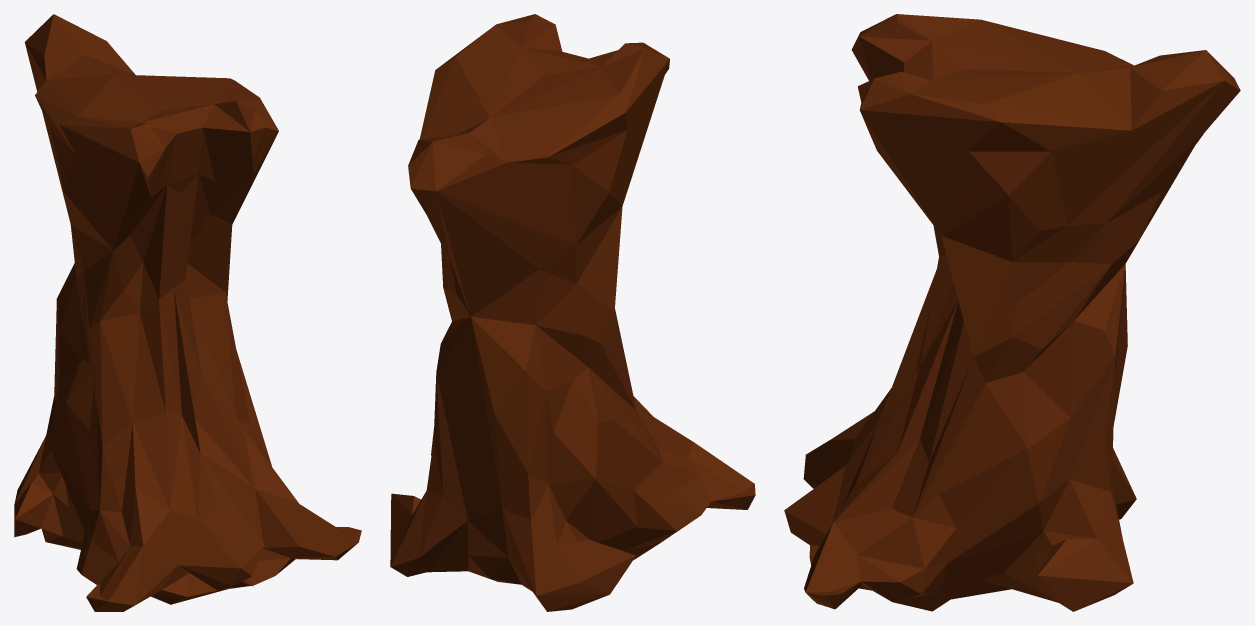
File: Tree_Stump.fbx
The picture shows the model from 3 angles, left to right: view 1: azimuth 30°, elevation 25°; view 2: azimuth 150°, elevation 25°; view 3: azimuth 270°, elevation 25°; orthographic projection. The views are drawn at different scales.
Parts seen in each view (by area): view 1: Quad Sphere; view 2: Quad Sphere; view 3: Quad Sphere.
Part boxes in pixels (x1=…): Quad Sphere: x1=14, y1=14, x2=361, y2=611; Quad Sphere: x1=390, y1=14, x2=755, y2=611; Quad Sphere: x1=784, y1=14, x2=1240, y2=611.
Bounding box in the file's own units: 172 × 290 × 223.
